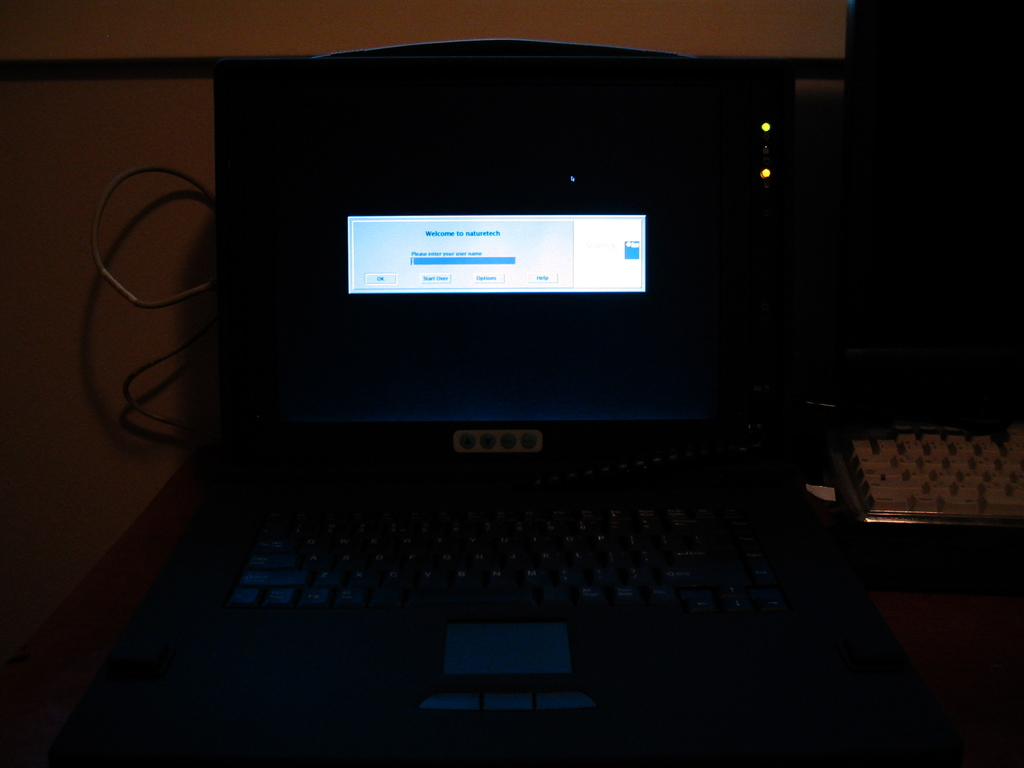Laptop: (45, 52, 943, 761)
